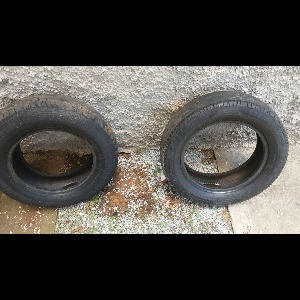tire: (160, 91, 289, 210), (1, 93, 117, 207)
